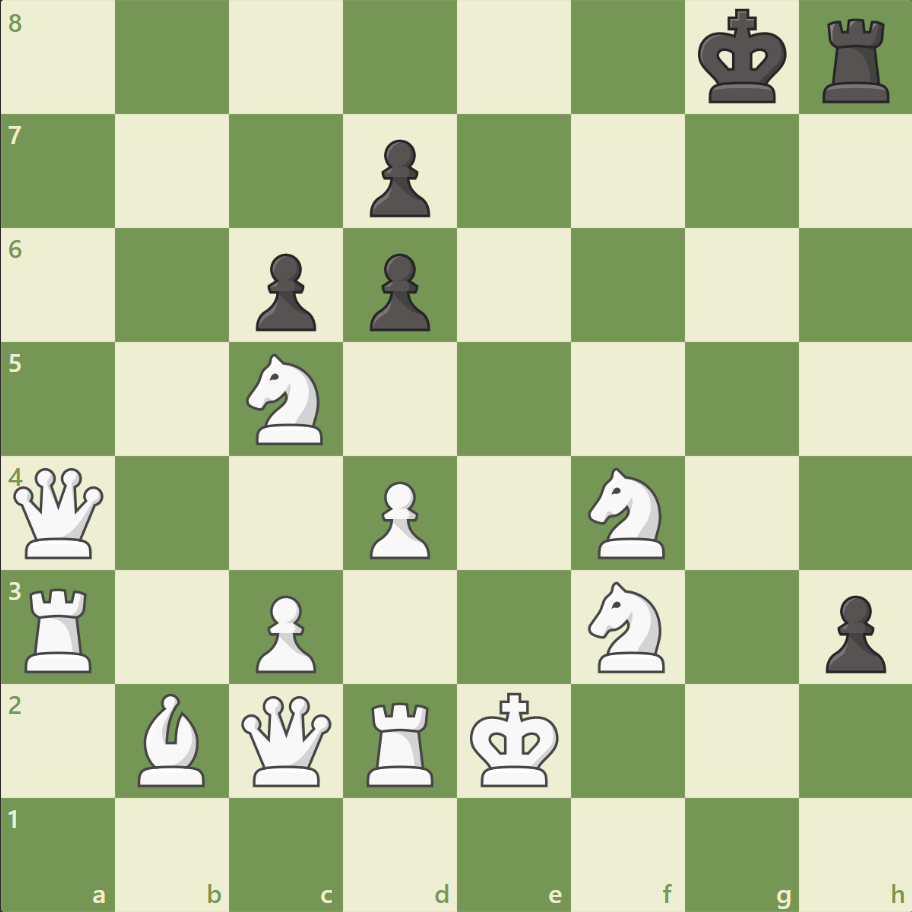B: (131, 687, 215, 790)
K: (465, 685, 565, 793)
N: (579, 461, 676, 564), (238, 348, 335, 450), (579, 575, 676, 677)
P: (247, 586, 322, 677), (361, 473, 435, 564)
Q: (10, 463, 109, 562), (237, 690, 336, 789)
R: (19, 579, 102, 676), (360, 693, 442, 790)
k: (692, 4, 792, 112)
p: (247, 246, 322, 337), (361, 132, 435, 223), (361, 246, 435, 337), (815, 586, 889, 677)
r: (814, 12, 897, 109)
